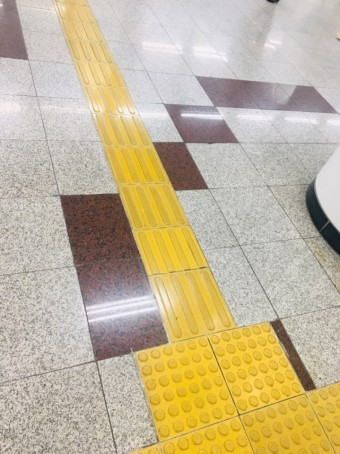guideBlock: (147, 275, 235, 336), (138, 221, 206, 279), (106, 146, 160, 187), (84, 86, 147, 118), (92, 113, 146, 150), (120, 188, 179, 221), (71, 38, 112, 65), (81, 63, 125, 87)
warningBlock: (140, 348, 228, 422), (217, 328, 289, 406), (251, 405, 330, 454)
